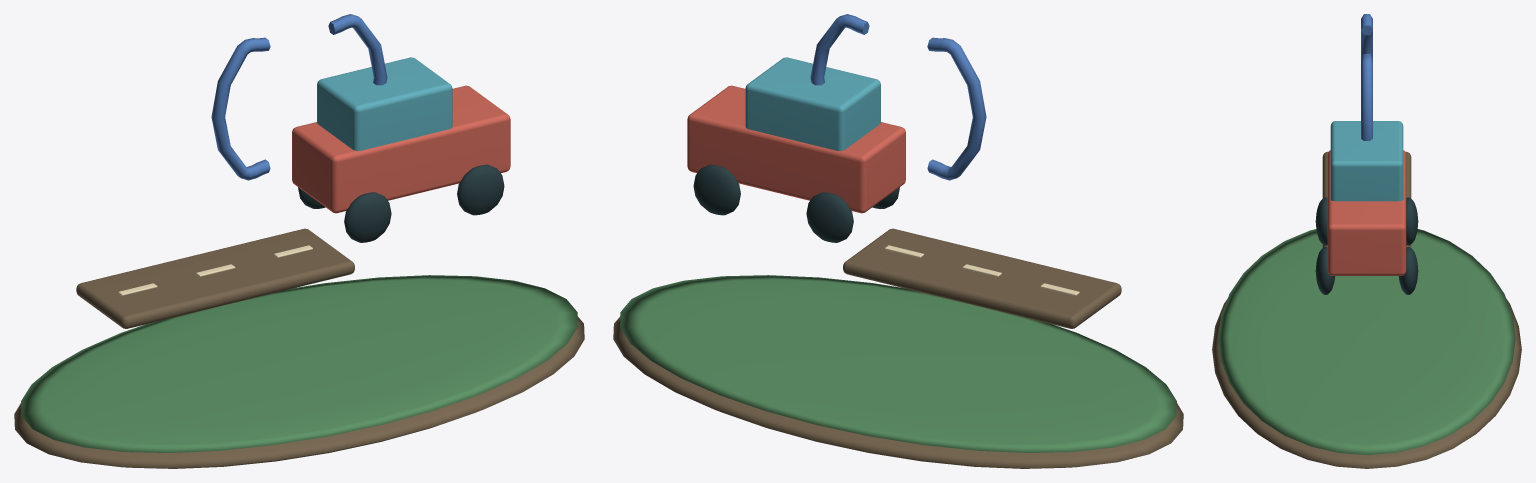
Rendered from complete-second-road-even-vehicle.glb.
3 renders of one model, left to right at view 1: azimuth 30°, elevation 25°; view 2: azimuth 150°, elevation 25°; view 3: azimuth 270°, elevation 25°, orthographic. The views are drawn at different scales.
Parts seen in each view (by area): view 1: complete-second-road-even-vehicle_surface_01, complete-second-road-even-vehicle_surface_00, complete-second-road-even-vehicle_surface_03, complete-second-road-even-vehicle_surface_04, complete-second-road-even-vehicle_surface_06, complete-second-road-even-vehicle_surface_05, complete-second-road-even-vehicle_surface_02; view 2: complete-second-road-even-vehicle_surface_01, complete-second-road-even-vehicle_surface_00, complete-second-road-even-vehicle_surface_03, complete-second-road-even-vehicle_surface_04, complete-second-road-even-vehicle_surface_06, complete-second-road-even-vehicle_surface_05, complete-second-road-even-vehicle_surface_02; view 3: complete-second-road-even-vehicle_surface_01, complete-second-road-even-vehicle_surface_03, complete-second-road-even-vehicle_surface_00, complete-second-road-even-vehicle_surface_04, complete-second-road-even-vehicle_surface_05, complete-second-road-even-vehicle_surface_06.
Part boxes in pixels (x1,y1,x2,y2): complete-second-road-even-vehicle_surface_01: (21,275,577,452); complete-second-road-even-vehicle_surface_00: (14,228,584,468); complete-second-road-even-vehicle_surface_03: (292,85,510,213); complete-second-road-even-vehicle_surface_04: (317,57,452,151); complete-second-road-even-vehicle_surface_06: (211,14,387,180); complete-second-road-even-vehicle_surface_05: (298,164,504,242); complete-second-road-even-vehicle_surface_02: (118,245,312,295); complete-second-road-even-vehicle_surface_01: (620,275,1176,452); complete-second-road-even-vehicle_surface_00: (613,228,1183,468); complete-second-road-even-vehicle_surface_03: (687,85,905,213); complete-second-road-even-vehicle_surface_04: (745,57,880,151); complete-second-road-even-vehicle_surface_06: (810,14,986,180); complete-second-road-even-vehicle_surface_05: (693,164,899,242); complete-second-road-even-vehicle_surface_02: (885,245,1079,295); complete-second-road-even-vehicle_surface_01: (1218,229,1515,454); complete-second-road-even-vehicle_surface_03: (1327,150,1406,275); complete-second-road-even-vehicle_surface_00: (1212,151,1521,468); complete-second-road-even-vehicle_surface_04: (1330,121,1403,201); complete-second-road-even-vehicle_surface_05: (1315,197,1418,294); complete-second-road-even-vehicle_surface_06: (1361,14,1372,140).
Size of the model in its own units: 4.56 by 2.91 by 2.5.
